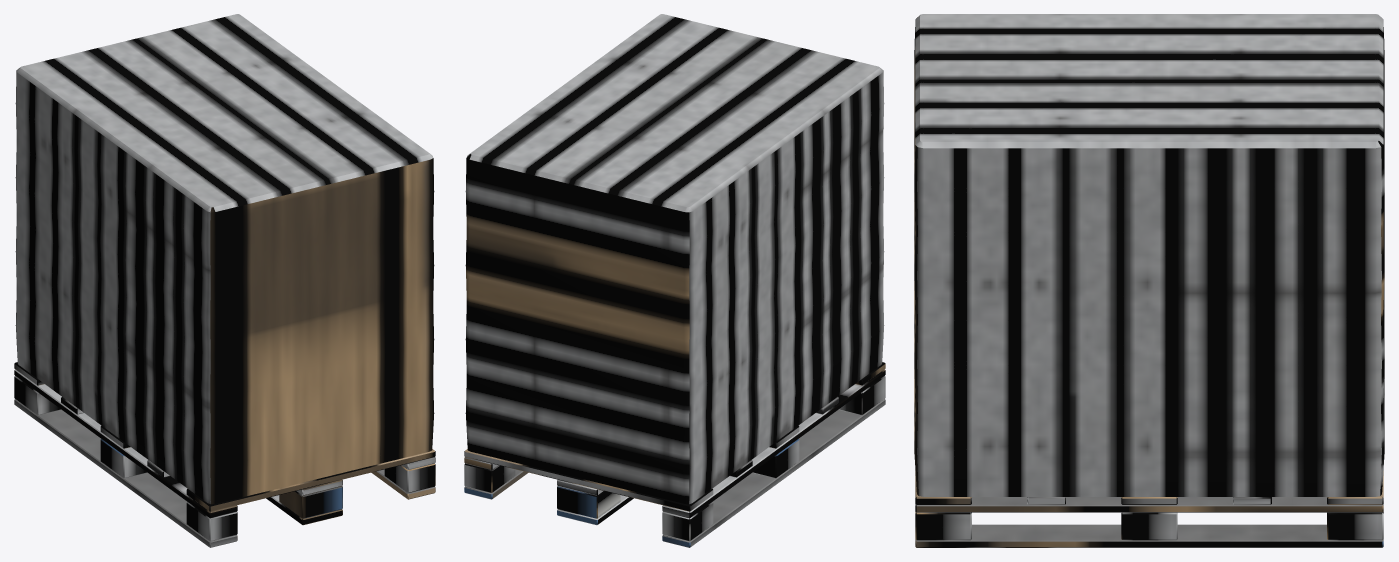
Rendered from PalletLoad_Cartons.fbx.
3 views of the same model, side by side, from view 1: azimuth 30°, elevation 25°; view 2: azimuth 150°, elevation 25°; view 3: azimuth 270°, elevation 25° (orthographic). The views are drawn at different scales.
Parts seen in each view (by area): view 1: PalletLoad_Cartons_LOD0; view 2: PalletLoad_Cartons_LOD0; view 3: PalletLoad_Cartons_LOD0.
Boxes of the visible parts, x1,y1,x2,y2 form: PalletLoad_Cartons_LOD0: (14,14,435,547); PalletLoad_Cartons_LOD0: (464,14,885,547); PalletLoad_Cartons_LOD0: (914,14,1384,547).
Size of what is drawn, in the model's own units: 0.806 by 1.14 by 1.21.
